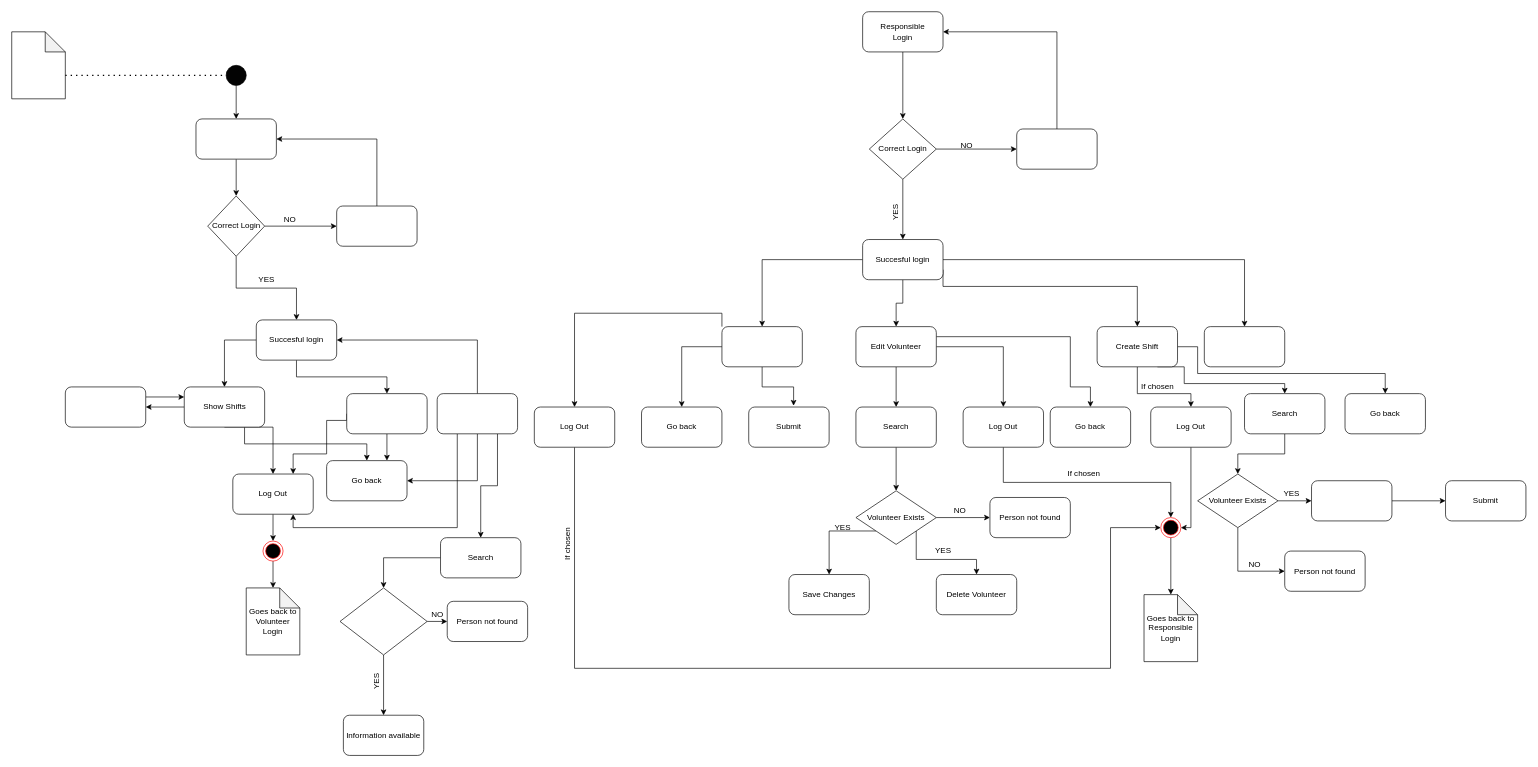
Some shapes in this 1538 by 767 pixel diagram are drawn without their labels. The box of each missing label's shape, as (x1, y1, x2, y2) in pixels:
Correct responsible name: (339, 587, 427, 655)
Create Volunteer: (721, 326, 802, 367)
Edit Details: (1311, 480, 1392, 521)
Edit Shift: (1204, 326, 1285, 367)
Enters login: (195, 118, 276, 159)
Incorrect Login: (1016, 128, 1097, 169)
Incorrect Login entered: (336, 205, 417, 246)
Responsibles contact info: (437, 393, 518, 434)
Show 3 next shifts: (65, 386, 146, 427)
Show Volunteer Information: (346, 393, 427, 434)
Volunteer has been created by Responsible: (11, 31, 65, 99)
